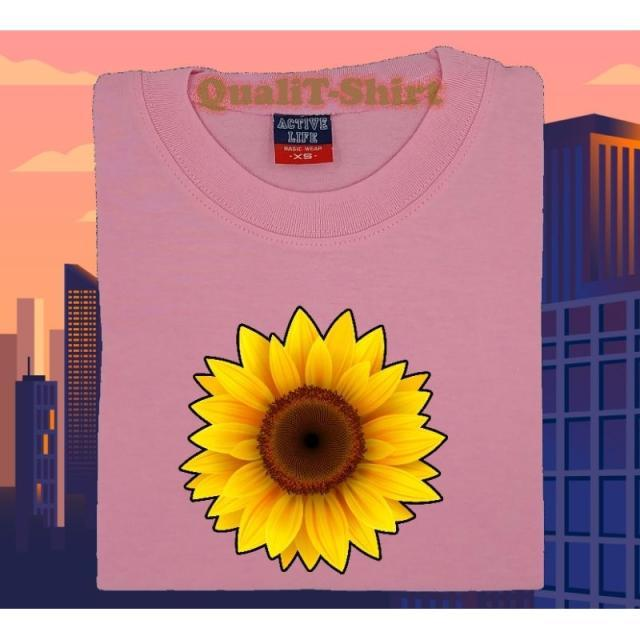sunflower: (180, 304, 446, 574)
